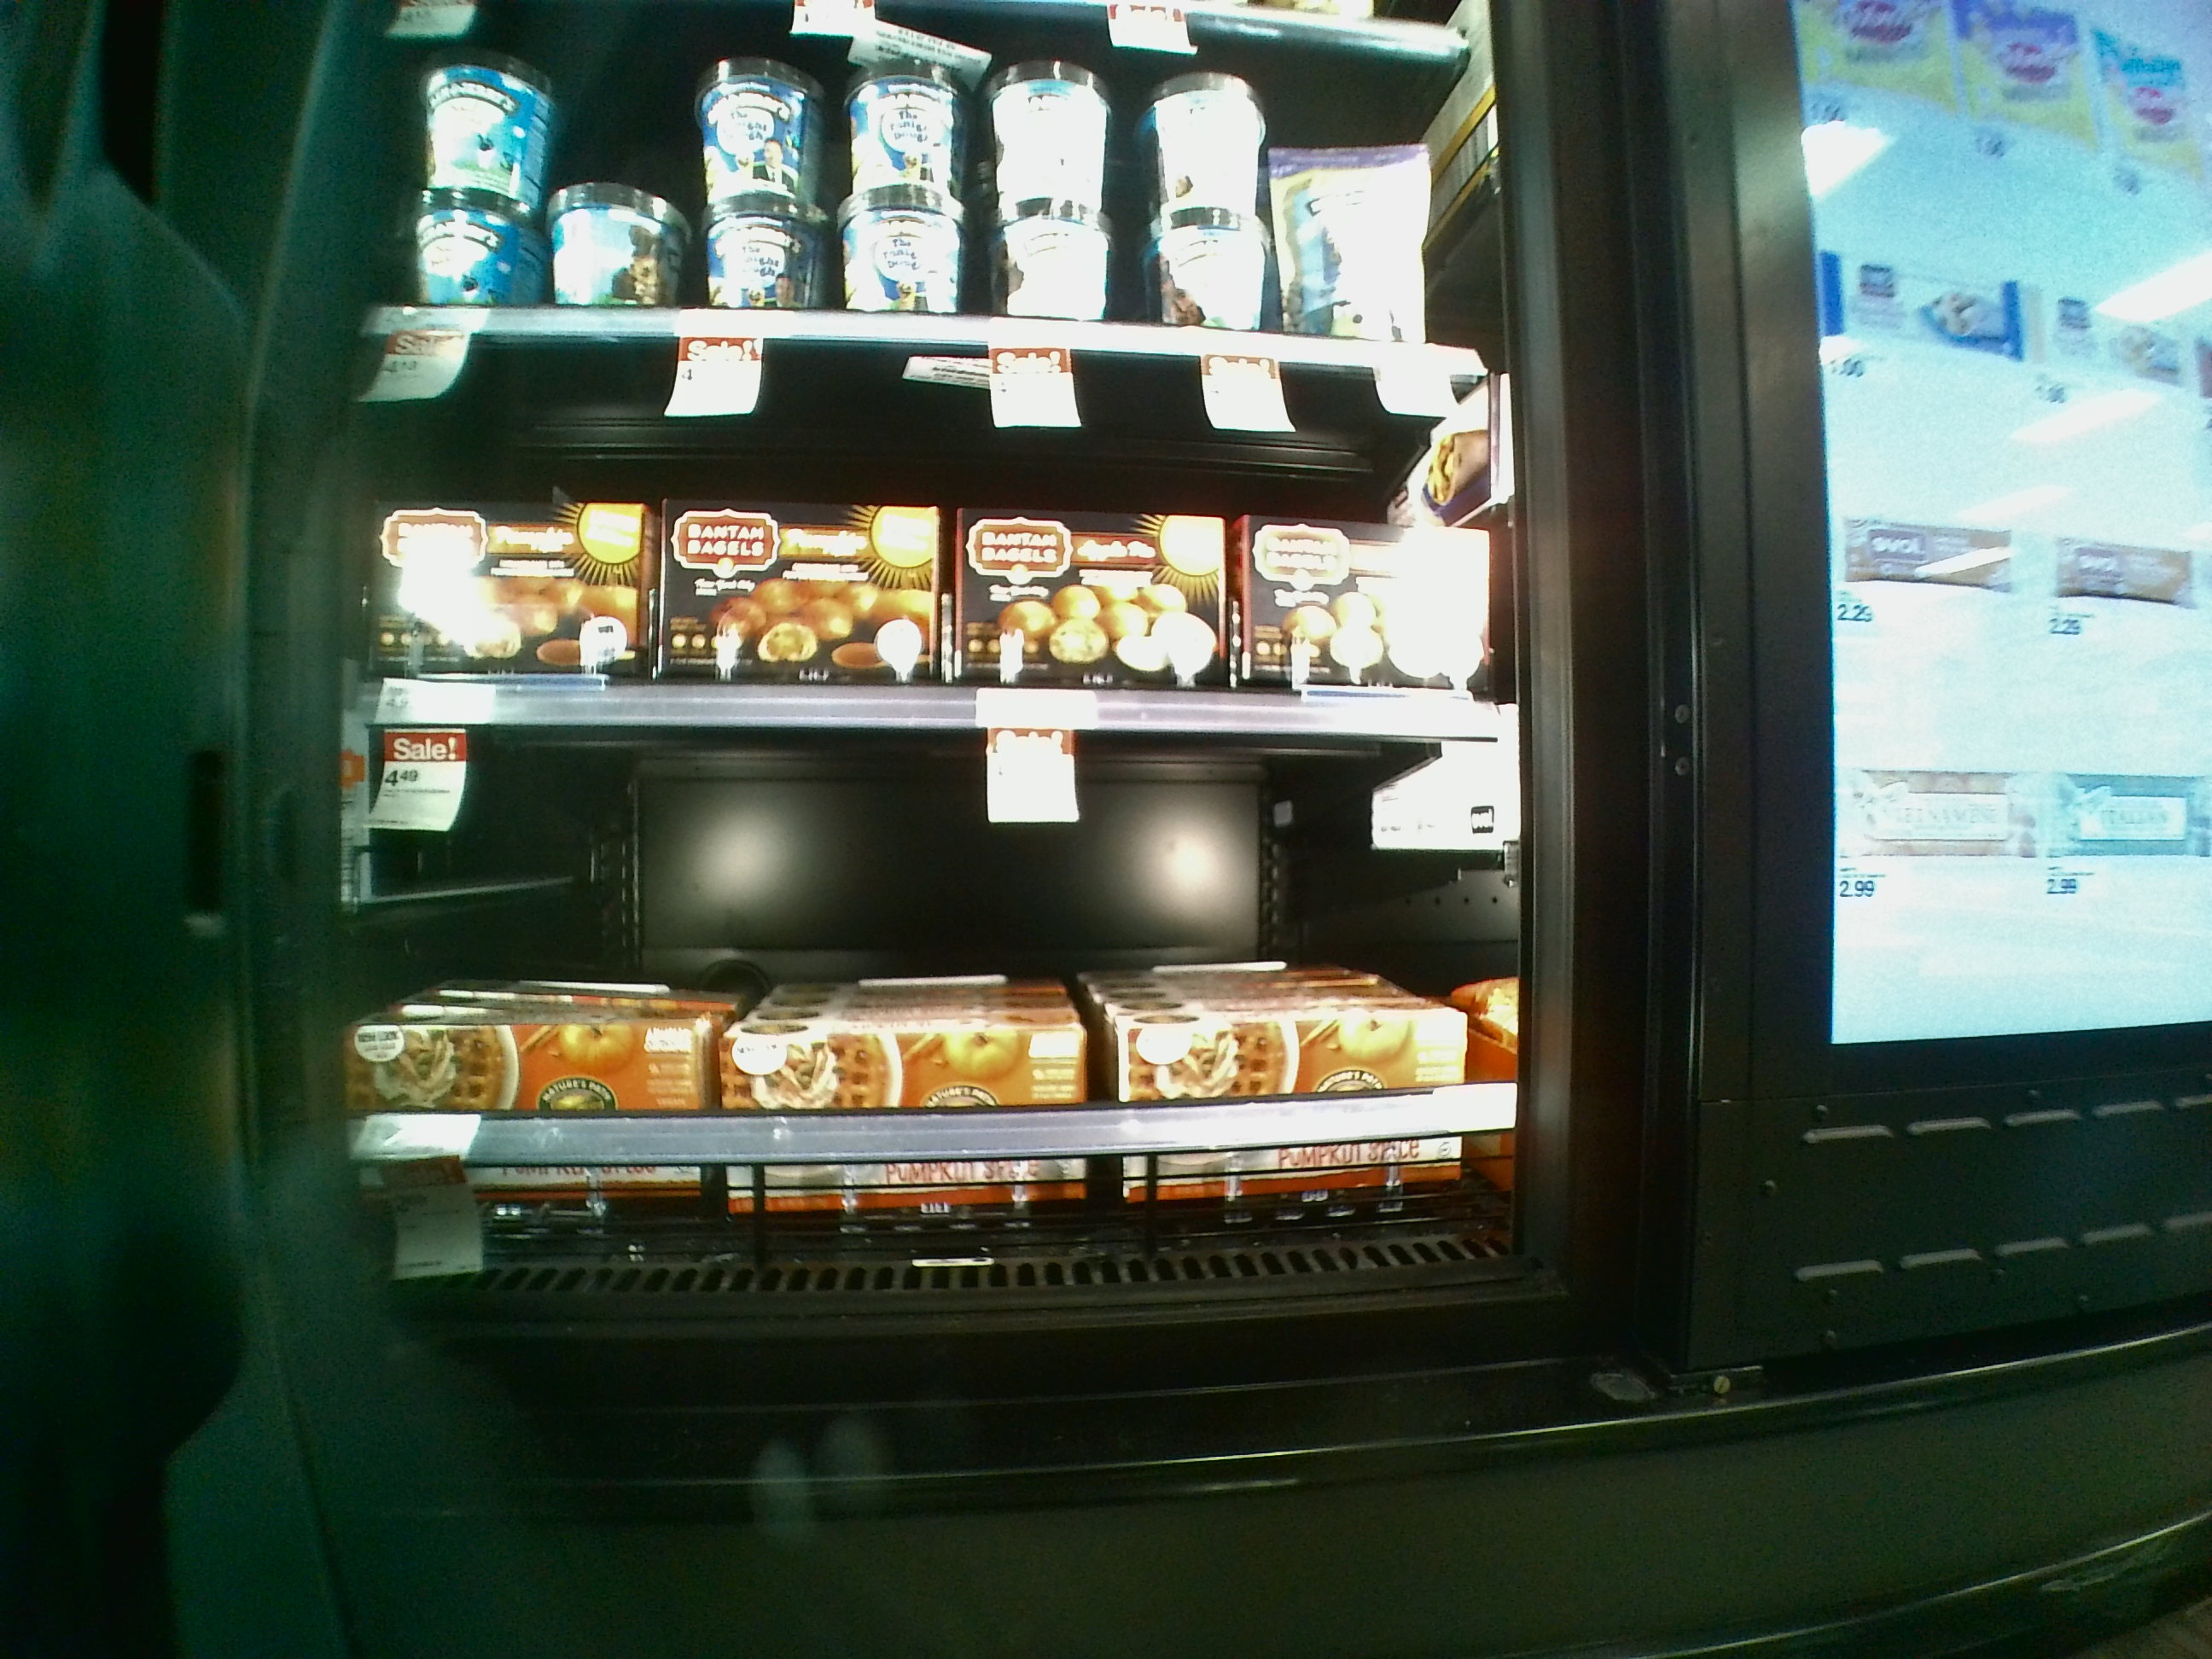shelf: (286, 680, 1550, 1300), (327, 329, 1531, 737)
